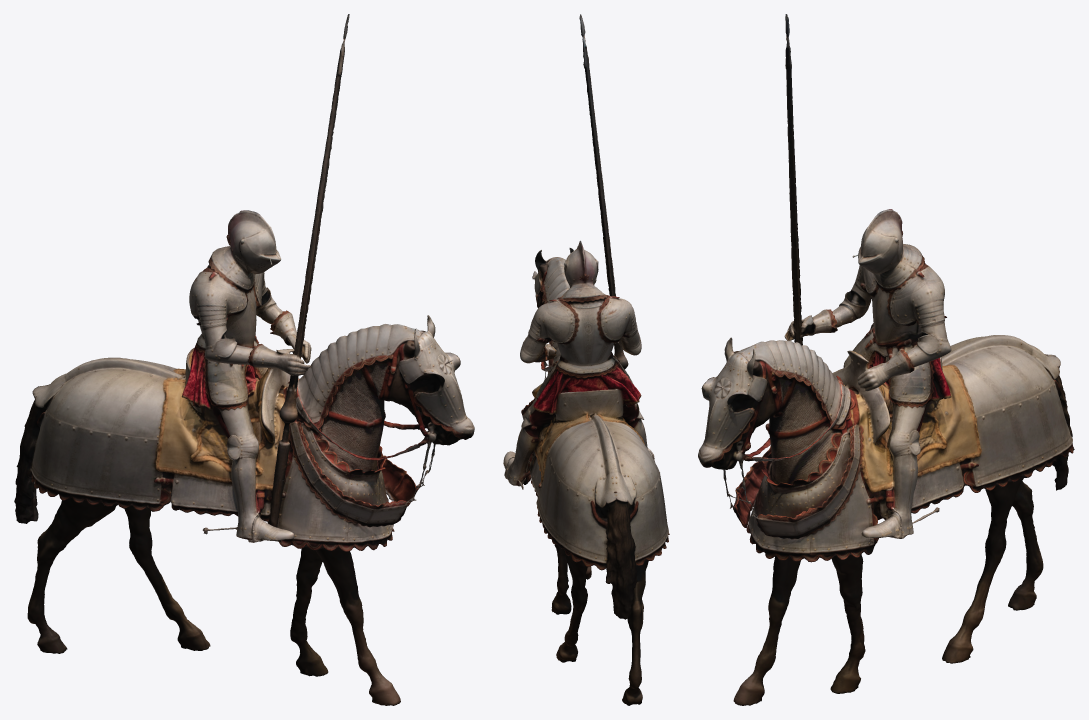
File: 1964.88_armor_for_man_and_horse.glb
The picture shows the model from 3 angles, left to right: view 1: azimuth 30°, elevation 25°; view 2: azimuth 150°, elevation 25°; view 3: azimuth 270°, elevation 25°; orthographic projection. The views are drawn at different scales.
Parts seen in each view (by area): view 1: Object_2; view 2: Object_2; view 3: Object_2.
Boxes of the visible parts, <box> form: Object_2: <box>14,14,474,705</box>; Object_2: <box>503,14,669,705</box>; Object_2: <box>698,14,1074,705</box>.
Bounding box in the file's own units: 1.65 × 3.71 × 1.87.
Materials: 1 (1 with a texture image).
